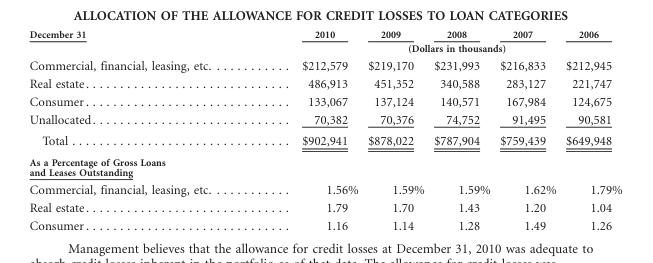table: (28, 28, 621, 231)
table column: (28, 28, 255, 231), (255, 28, 362, 231), (362, 28, 428, 231), (428, 28, 494, 231), (494, 28, 560, 231), (560, 28, 621, 231)
table column header: (28, 28, 621, 56)
table projected row header: (28, 151, 621, 180)
table row: (28, 151, 621, 180), (28, 129, 621, 151), (28, 110, 621, 129), (28, 56, 621, 74), (28, 74, 621, 92), (28, 92, 621, 110), (28, 180, 621, 198), (28, 198, 621, 216), (28, 41, 621, 56), (28, 216, 621, 231), (28, 28, 621, 41)
table spanning cell: (28, 28, 255, 56), (255, 41, 621, 56)
